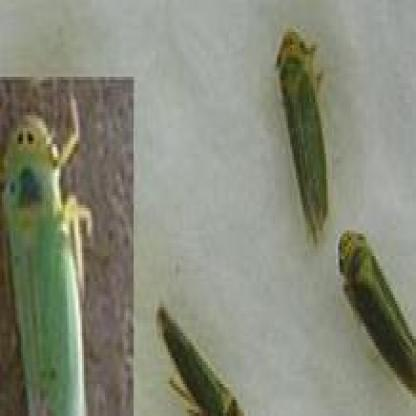Green-Leafhopper: (0, 69, 103, 416), (266, 22, 338, 251), (330, 225, 416, 403), (151, 300, 248, 416)
